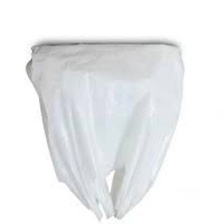plastic_bag: (23, 35, 190, 223)
